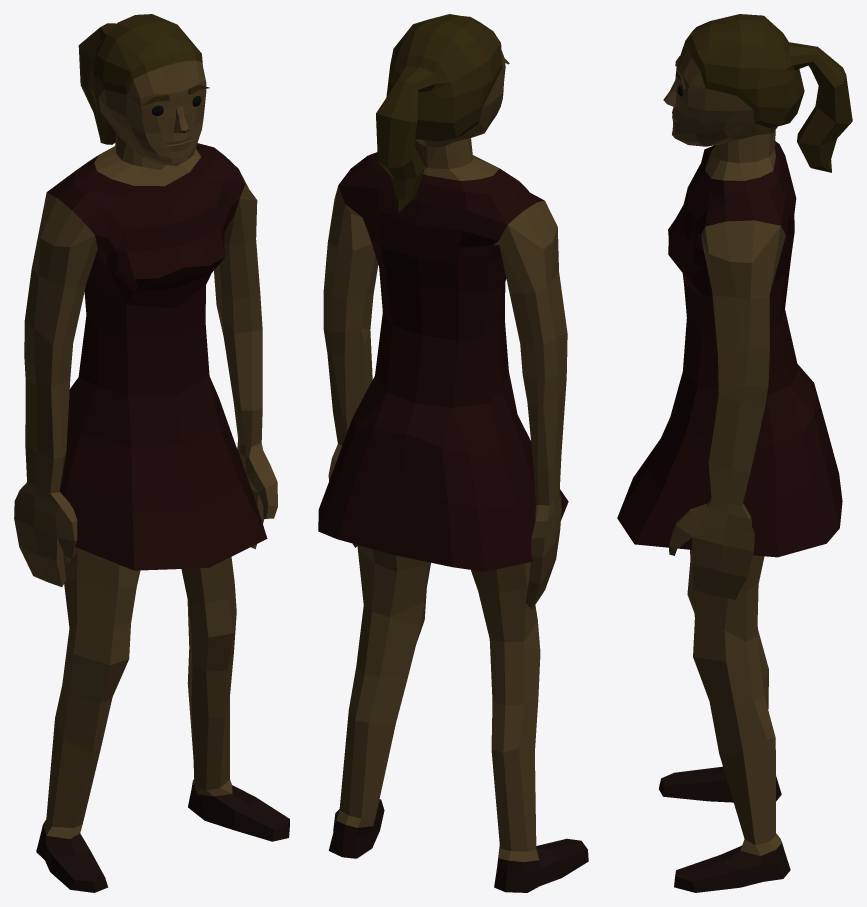
File: Female_Dress.obj
3 views of the same model, side by side, from view 1: azimuth 30°, elevation 25°; view 2: azimuth 150°, elevation 25°; view 3: azimuth 270°, elevation 25° (orthographic). The views are drawn at different scales.
Parts seen in each view (by area): view 1: Female_Cylinder.012; view 2: Female_Cylinder.012; view 3: Female_Cylinder.012.
Boxes of the visible parts, bbox=[...] form: Female_Cylinder.012: bbox=[14, 14, 289, 892]; Female_Cylinder.012: bbox=[318, 14, 588, 892]; Female_Cylinder.012: bbox=[617, 14, 852, 892].
Size of the model in its own units: 1.4 by 4.65 by 1.22.
